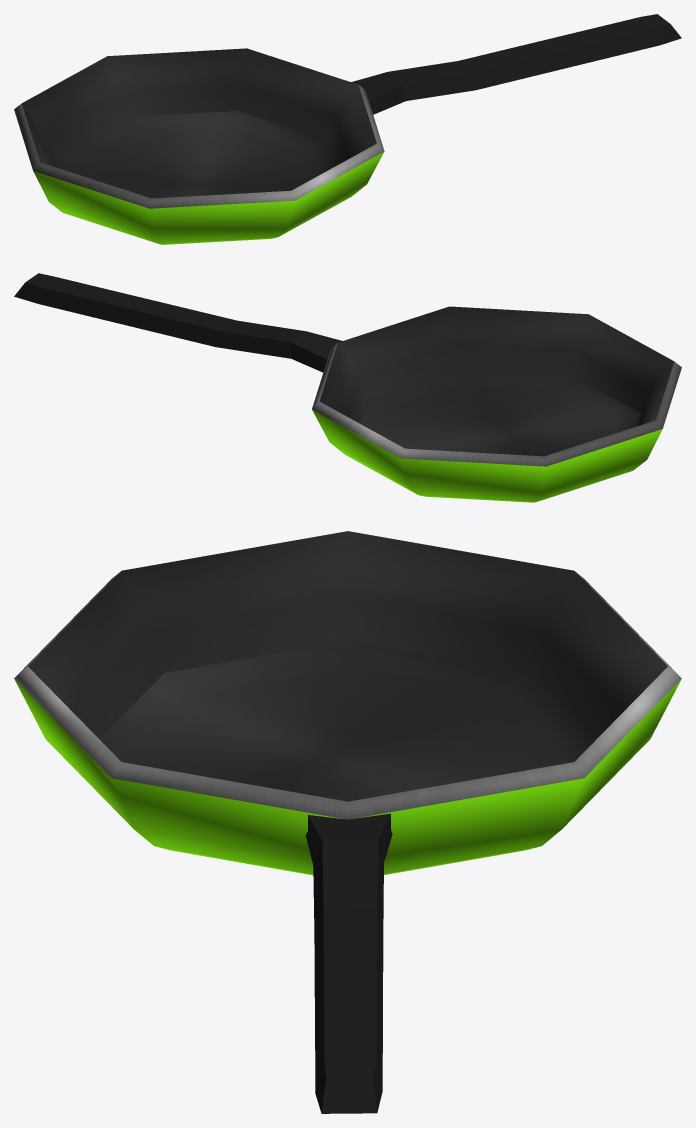
The model's file is Frying_Pan_G.FBX.
3 renders of one model, top to bottom at view 1: azimuth 30°, elevation 25°; view 2: azimuth 150°, elevation 25°; view 3: azimuth 270°, elevation 25°, orthographic. The views are drawn at different scales.
Parts seen in each view (by area): view 1: Frying_Pan; view 2: Frying_Pan; view 3: Frying_Pan.
Boxes of the visible parts, x1,y1,x2,y2 form: Frying_Pan: (14, 14, 681, 244); Frying_Pan: (14, 273, 681, 502); Frying_Pan: (14, 531, 681, 1113).
Bounding box in the file's own units: 141 × 13.23 × 73.2.
